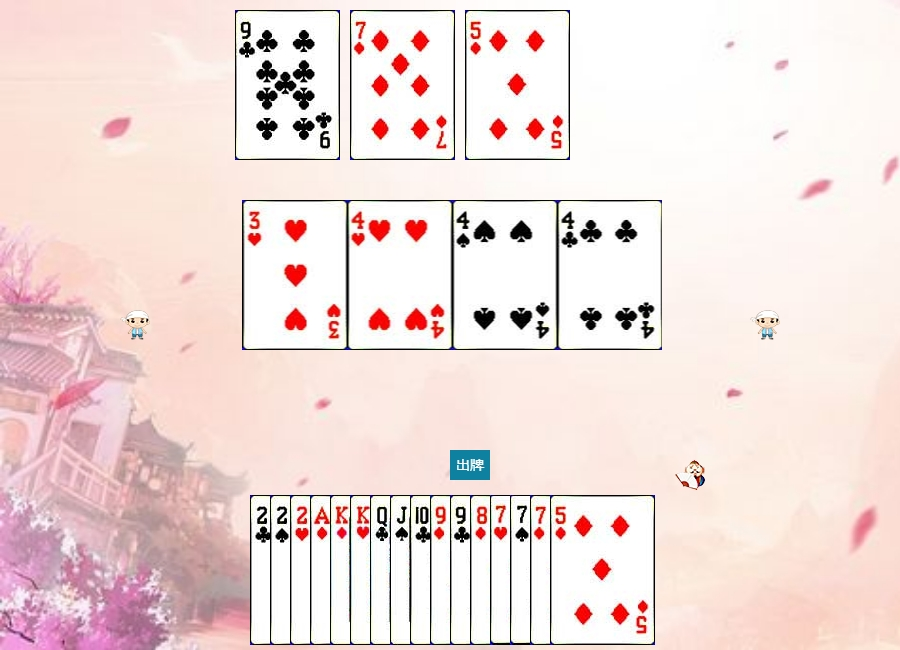10~2: (410, 495, 515, 645)
11~4: (390, 495, 495, 645)
12~2: (370, 495, 475, 645)
13~1: (330, 495, 435, 645)
13~3: (350, 495, 455, 645)
14~1: (310, 495, 415, 645)
15~2: (250, 495, 355, 645)
15~3: (290, 495, 395, 645)
15~4: (270, 495, 375, 645)
3~3: (243, 200, 348, 350)
4~2: (558, 200, 663, 350)
4~3: (348, 200, 453, 350)
4~4: (453, 200, 558, 350)
5~1: (465, 10, 570, 160), (550, 495, 655, 645)
7~1: (350, 10, 455, 160), (530, 495, 635, 645)
7~3: (490, 495, 595, 645)
7~4: (510, 495, 615, 645)
8~1: (470, 495, 575, 645)
9~1: (430, 495, 535, 645)
9~2: (235, 10, 340, 160), (450, 495, 555, 645)
